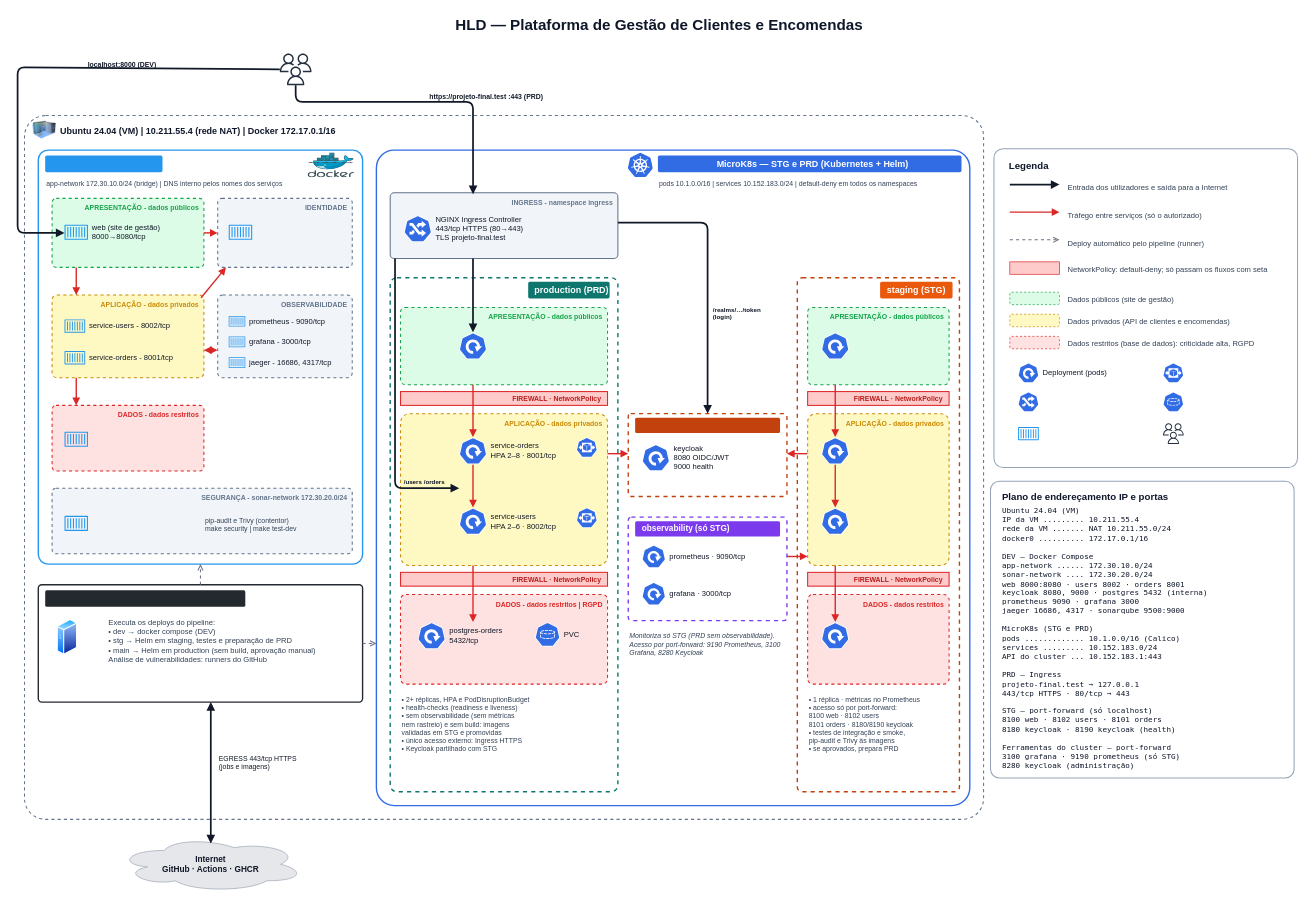
The diagram is 1310 pixels wide and 904 high, and some of its shapes have lost their labels. Each missing label, with the centre of its shape:
auth (partilhado): pixel 707 425
Contentor Docker (DEV): pixel 1028 433
DEV — Docker Compose: pixel 103 163
Escalonamento automático: pixel 1173 372
FIREWALL: pixel 1034 267
Ingress (HTTPS): pixel 1028 401
keycloak 8080 - 9000/tcp: pixel 240 232
postgres-orders 5432/tcp (só interna): pixel 76 439
postgres-orders 5432/tcp · PVC: pixel 835 635
runner: pixel 67 637
Runner GitHub Actions (self-hosted): pixel 145 598
service-orders 8001/tcp: pixel 835 450
service-users 8002/tcp: pixel 835 521
sonarqube 9500→9000/tcp: pixel 76 523
Utilizadores: pixel 1173 433
Utilizadores (funcionários) browser no computador anfitrião acesso à VM por NAT: pixel 295 69
Volume persistente: pixel 1173 401
web | 1 réplica 8080/tcp: pixel 835 346
web | 2 réplicas 8080/tcp: pixel 473 346
